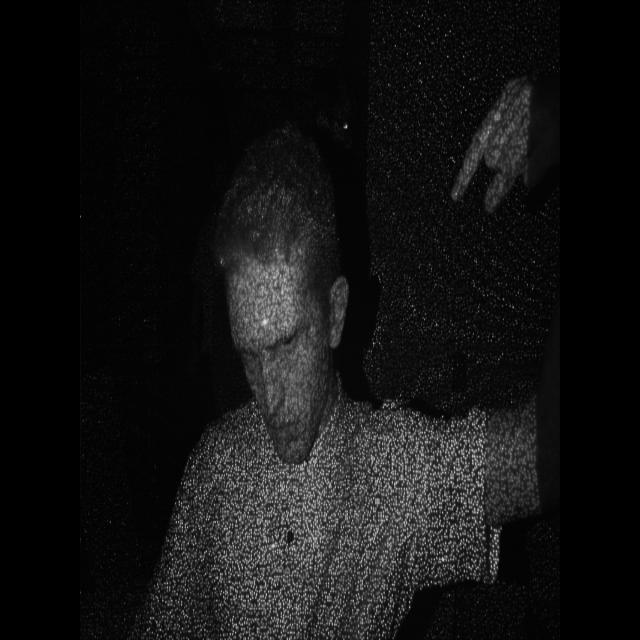Q: (442, 60, 556, 232)
